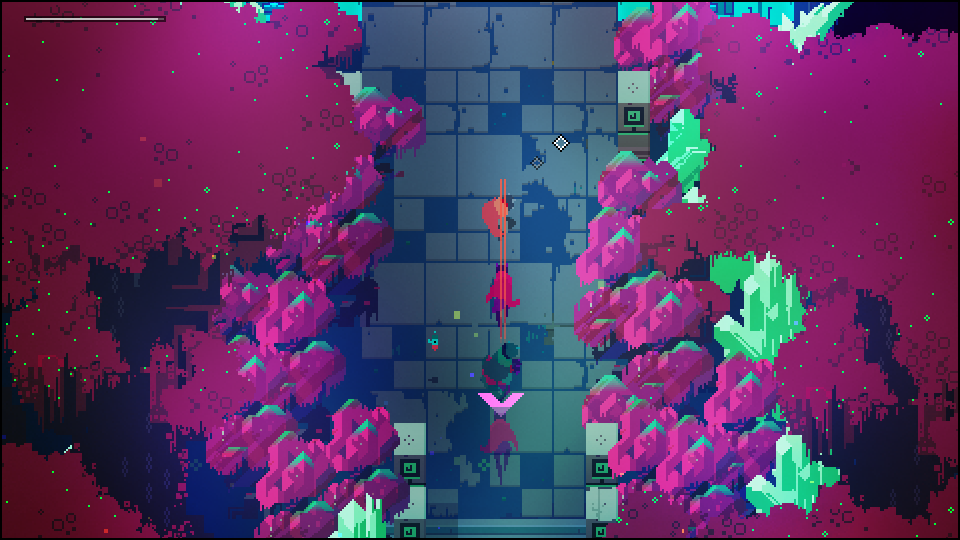player: (480, 187, 521, 242)
